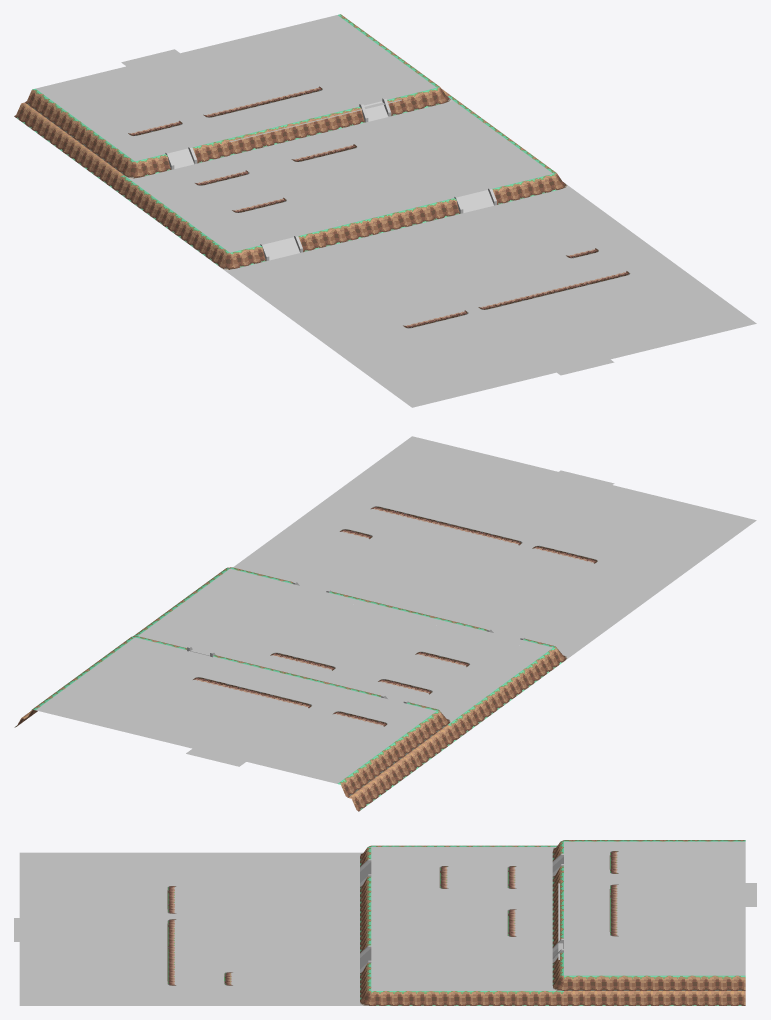
File: Route1Collision.fbx
3 views of the same model, one above another, from view 1: azimuth 30°, elevation 25°; view 2: azimuth 150°, elevation 25°; view 3: azimuth 270°, elevation 25° (orthographic). The views are drawn at different scales.
Parts seen in each view (by area): view 1: map32_10c.002, Grass; view 2: map32_10c.002, Grass; view 3: map32_10c.002, Grass.
Part boxes in pixels (x1,y1,x2,y2): map32_10c.002: (14,14,756,407); Grass: (207,80,657,375); map32_10c.002: (14,436,756,811); Grass: (153,470,669,705); map32_10c.002: (19,840,756,1005); Grass: (14,871,609,986).
Size of the model in its own units: 256 by 18.66 by 524.
